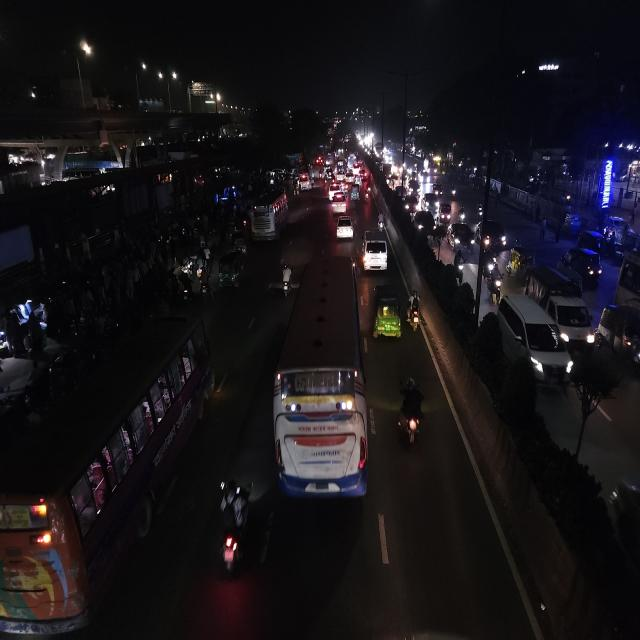bus: (0, 327, 208, 640), (271, 251, 372, 512), (247, 187, 291, 243)
car: (498, 294, 570, 397), (540, 267, 594, 349), (363, 230, 387, 274), (448, 219, 475, 257), (479, 217, 506, 253), (336, 213, 356, 247), (414, 207, 434, 237), (406, 191, 419, 213), (332, 192, 345, 213)
cng: (599, 301, 640, 372), (374, 278, 401, 350), (568, 240, 604, 288), (216, 244, 246, 294), (509, 240, 533, 283), (348, 183, 360, 205), (440, 200, 452, 221)
motorcycle: (214, 476, 252, 574), (392, 375, 430, 455), (276, 256, 295, 299), (406, 287, 425, 329), (488, 257, 502, 301), (450, 248, 466, 284), (374, 210, 387, 235), (458, 201, 469, 224), (474, 199, 486, 218)
